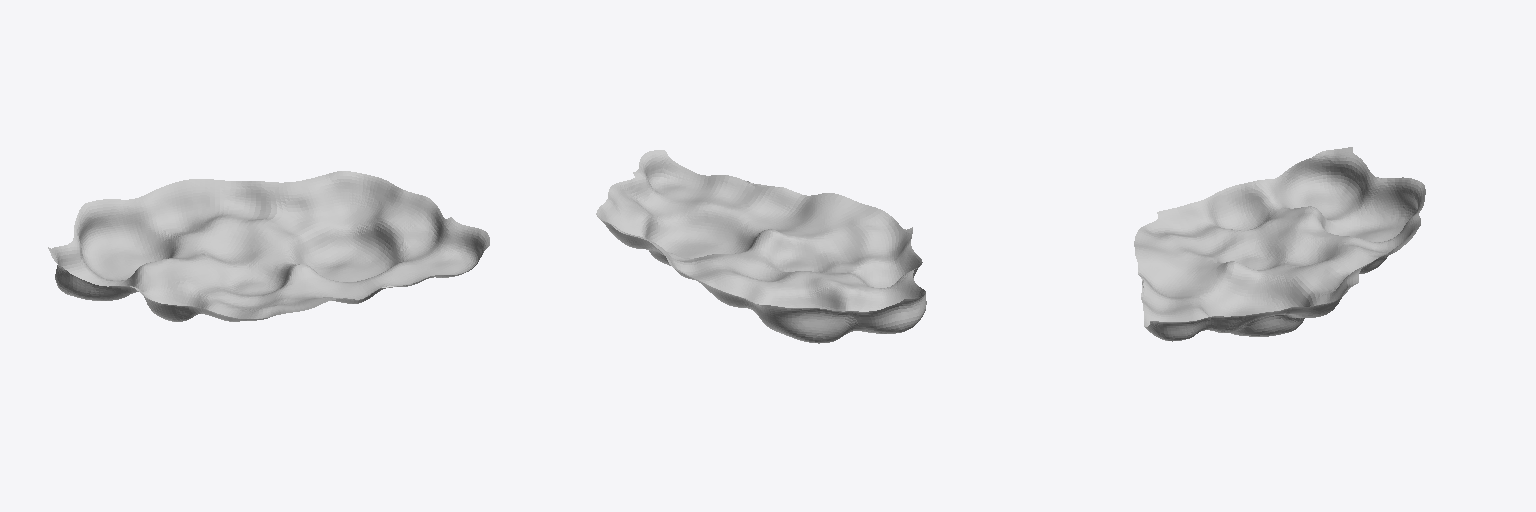
Rendered from Body01.OBJ.
3 views of the same model, side by side, from view 1: azimuth 30°, elevation 25°; view 2: azimuth 150°, elevation 25°; view 3: azimuth 270°, elevation 25° (orthographic).
Visible parts, largest first — view 1: ZBrushPolyMesh3D; view 2: ZBrushPolyMesh3D; view 3: ZBrushPolyMesh3D.
Part boxes in pixels (x1,y1,x2,y2): ZBrushPolyMesh3D: (48, 171, 489, 321); ZBrushPolyMesh3D: (596, 150, 926, 343); ZBrushPolyMesh3D: (1134, 147, 1425, 341).
Bounding box in the file's own units: 1.51 × 0.2353 × 1.08.